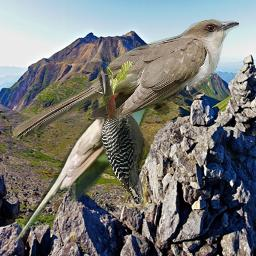Cuckoo: (11, 18, 239, 140), (14, 81, 166, 243)
Woodpecker: (100, 85, 153, 204)
